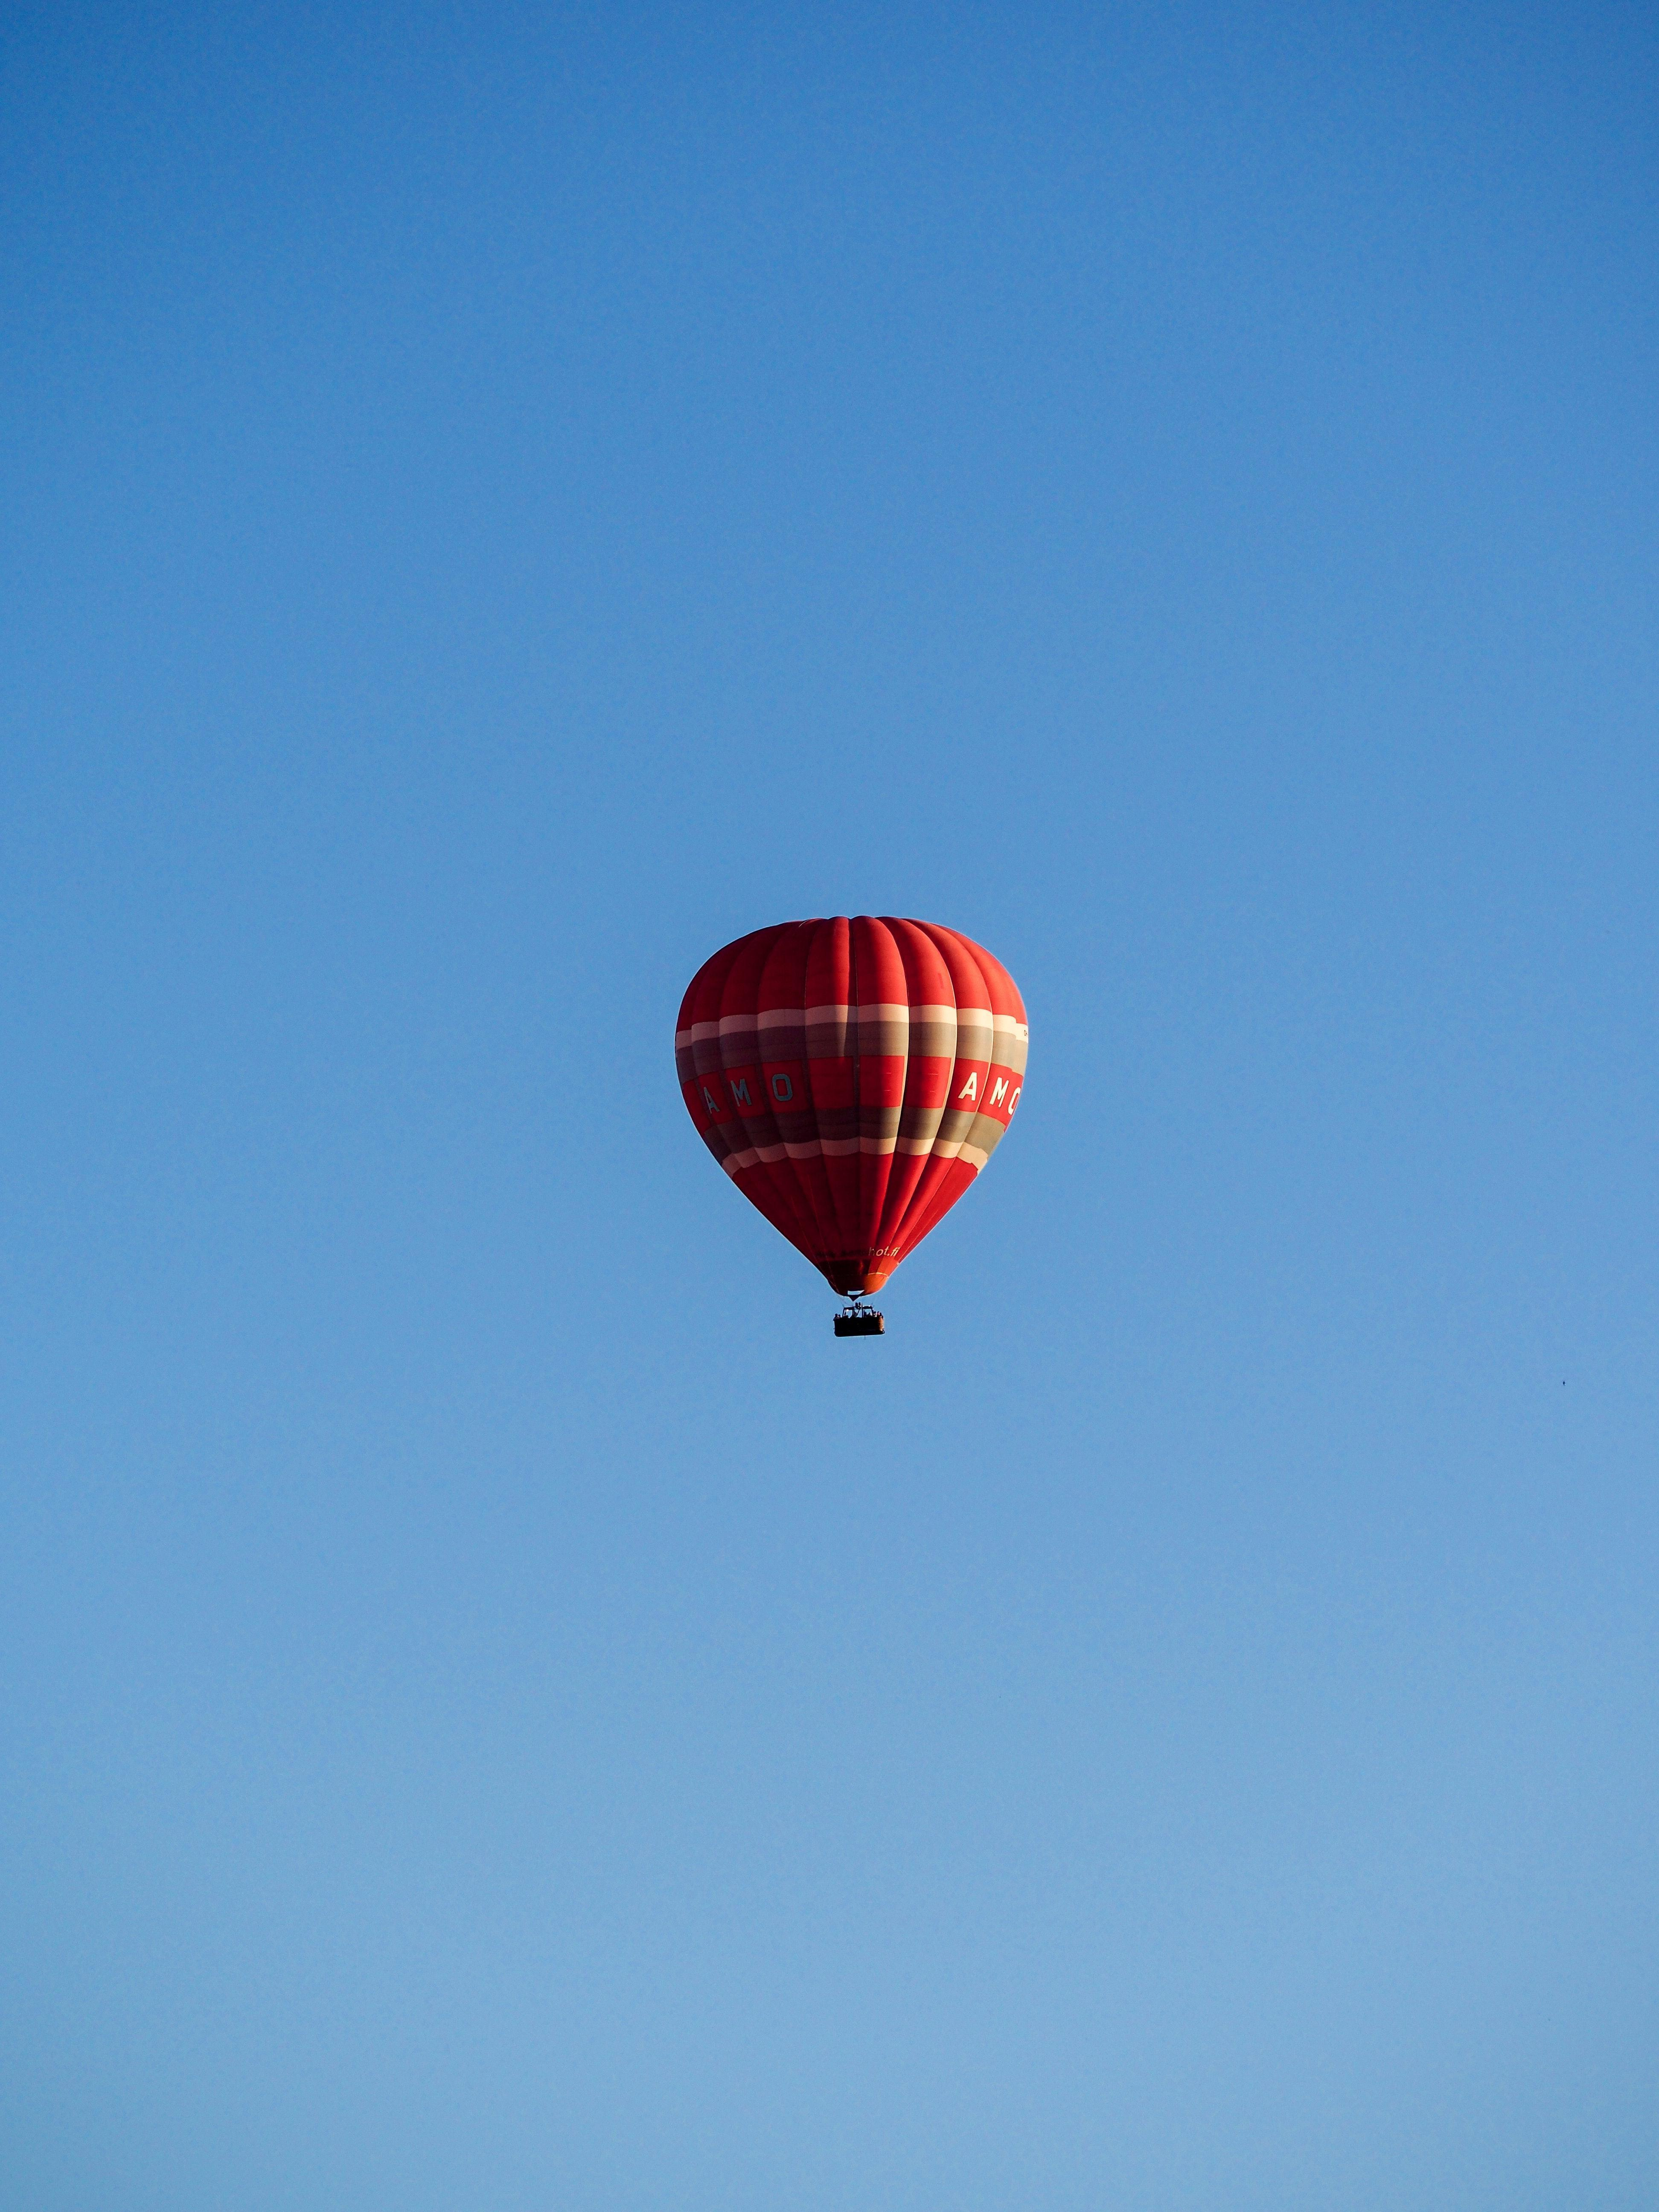hot air ballon: (673, 918, 1028, 1336)
